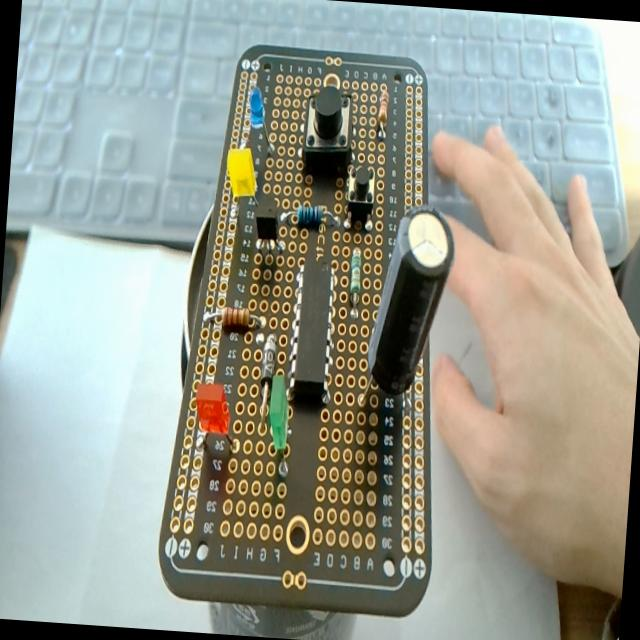Electrolytic capacitor: (356, 206, 454, 428)
IC: (286, 248, 342, 407)
diode: (256, 332, 276, 429)
led: (264, 374, 294, 480), (191, 379, 232, 437), (224, 144, 259, 198), (248, 88, 278, 151)
resistor: (203, 304, 265, 332), (346, 247, 364, 320), (296, 202, 324, 228), (376, 85, 389, 135)
switch: (302, 86, 354, 172), (344, 163, 376, 228)
transistor: (251, 180, 291, 260)
